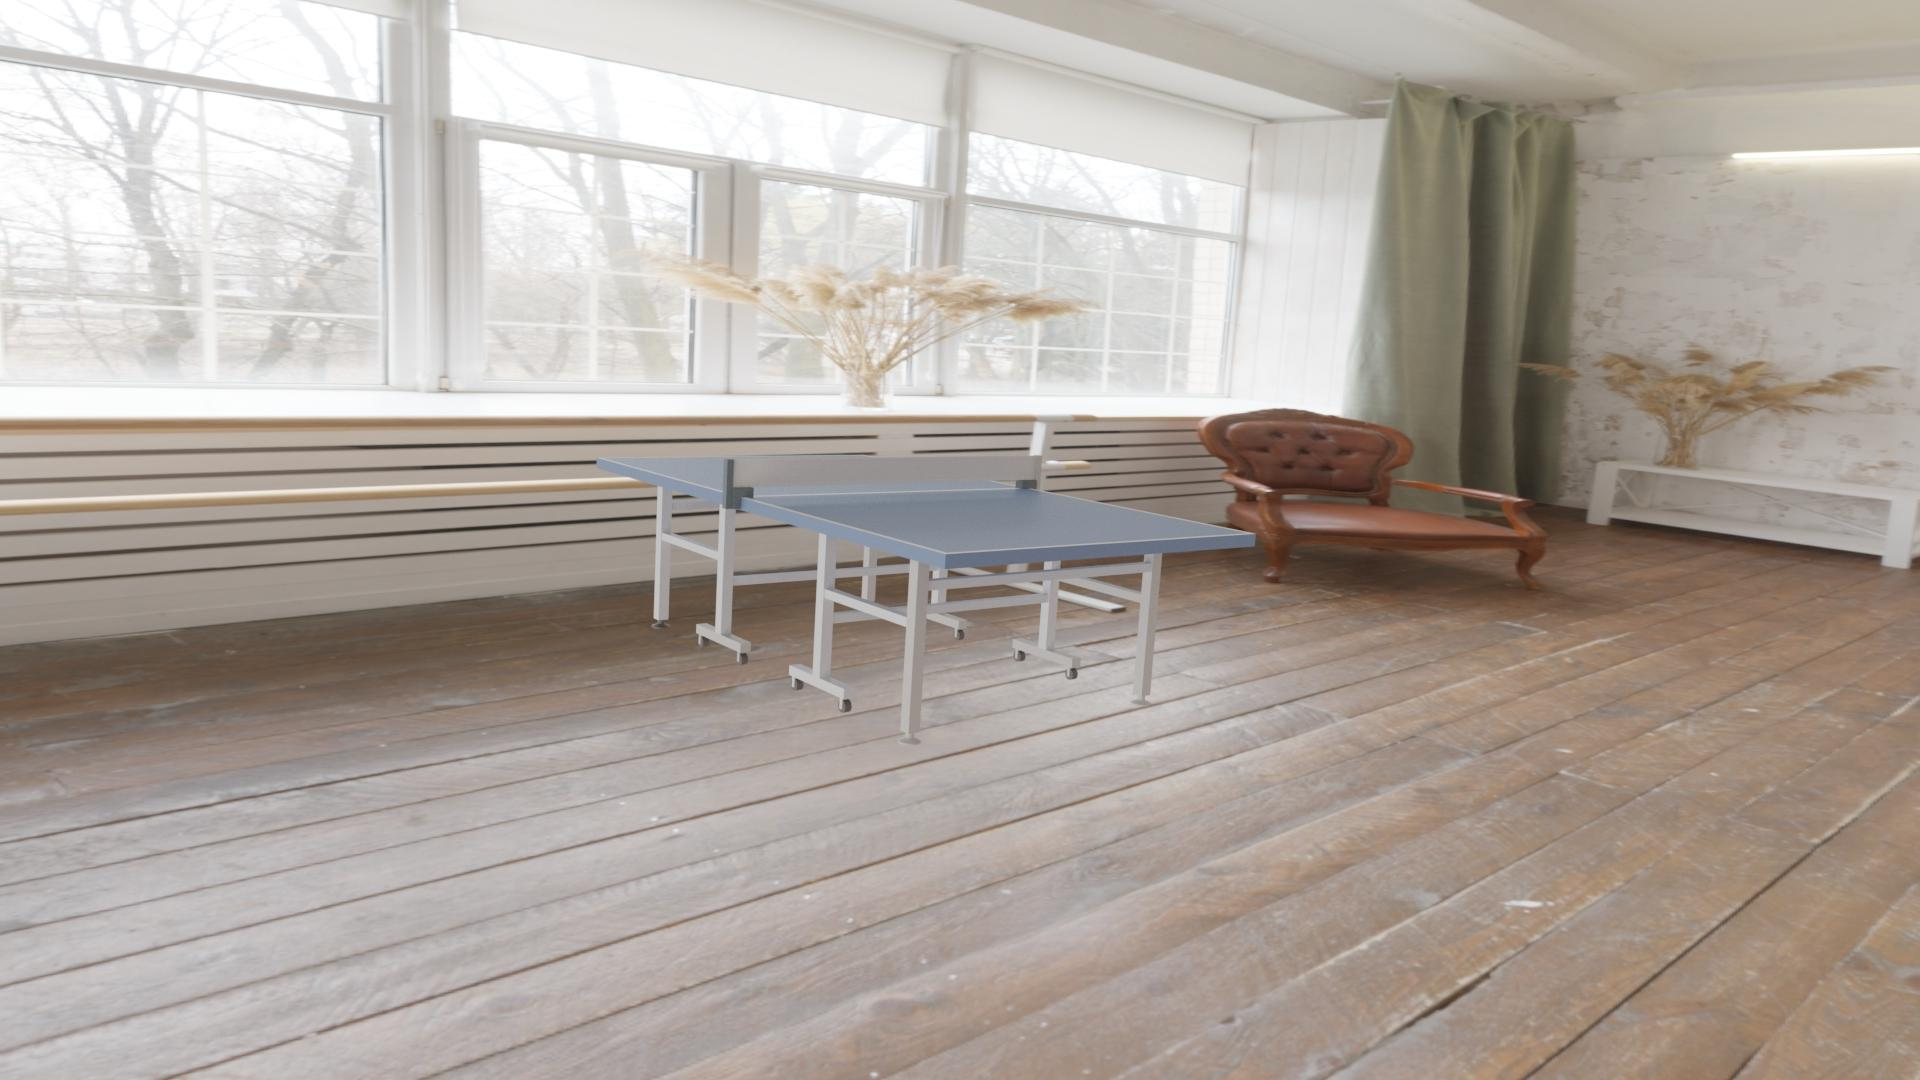table: (603, 455, 1249, 553)
